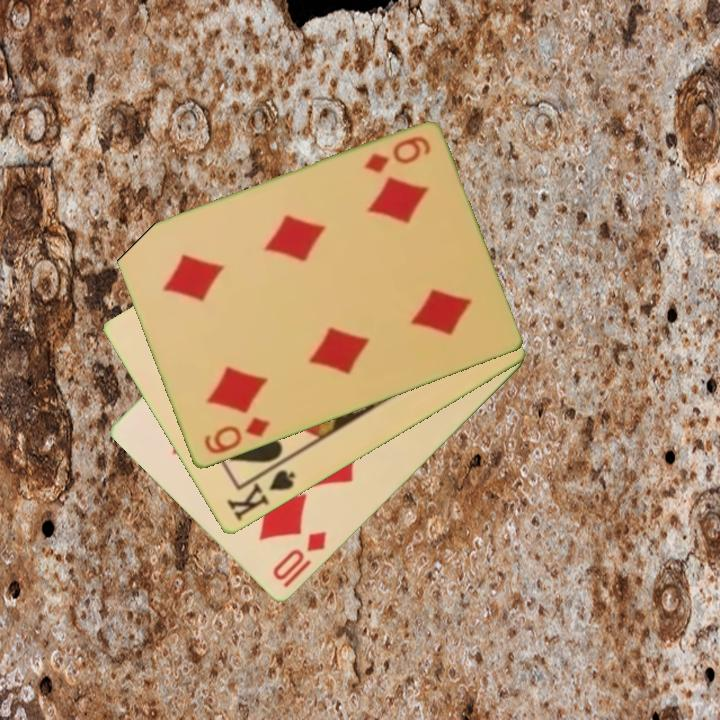10d: (269, 528, 330, 592)
6d: (360, 133, 434, 177), (200, 414, 272, 458)
Ks: (223, 458, 298, 525)
